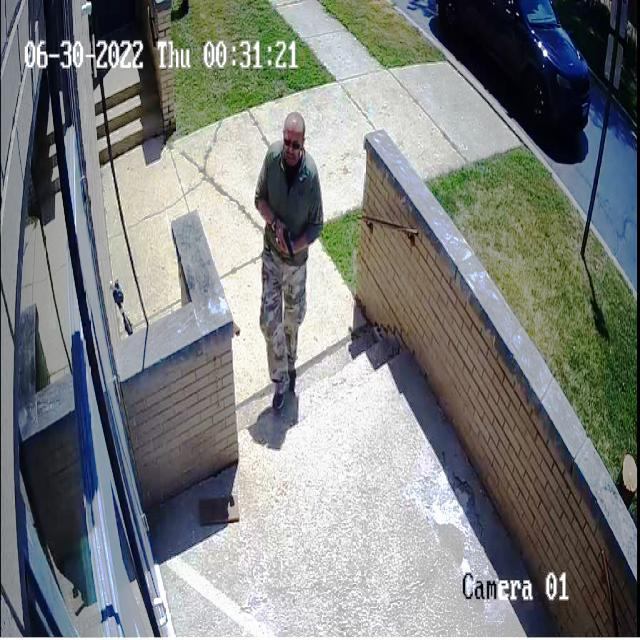Gun: (276, 228, 304, 266)
